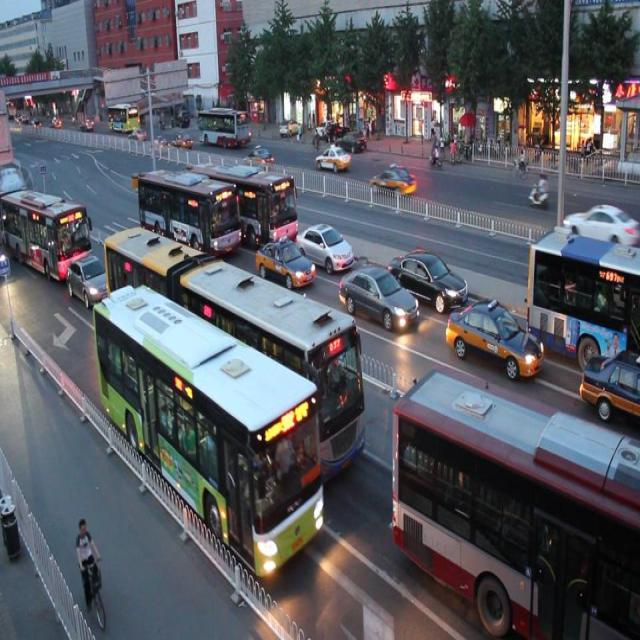car: (446, 294, 544, 382), (337, 258, 416, 331), (390, 243, 468, 309), (578, 346, 640, 416), (253, 230, 314, 289), (294, 214, 352, 273), (66, 253, 115, 306), (609, 245, 640, 319)
van: (102, 218, 366, 482), (92, 283, 325, 577), (393, 371, 640, 640), (526, 226, 640, 363), (136, 160, 240, 262), (191, 153, 298, 248), (1, 182, 90, 272)
